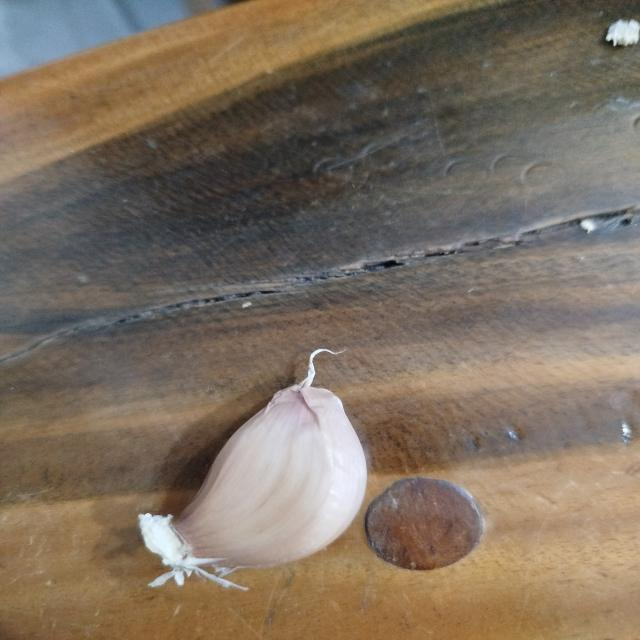garlic: (137, 347, 368, 591)
